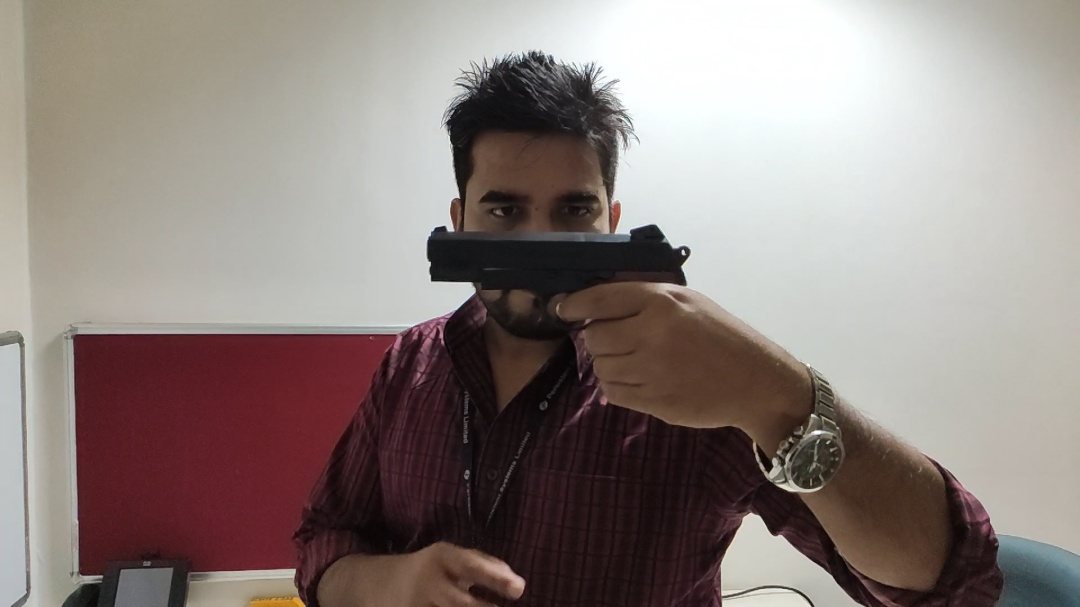gun: (424, 220, 694, 359)
